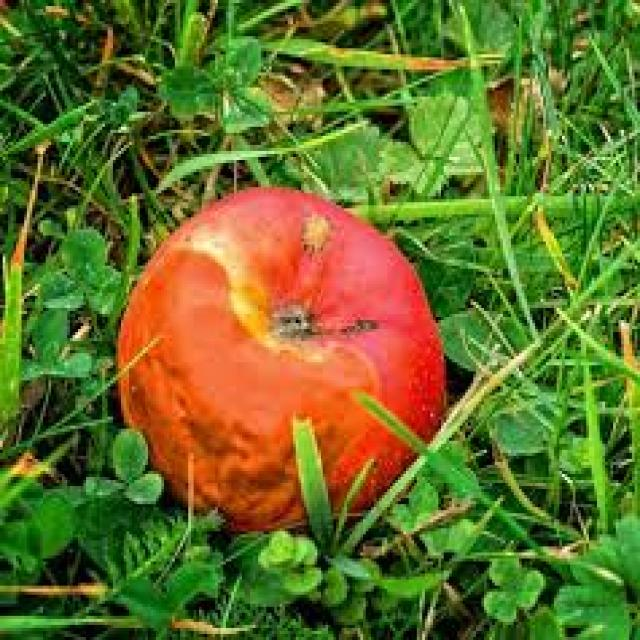organic waste: (110, 181, 444, 531)
